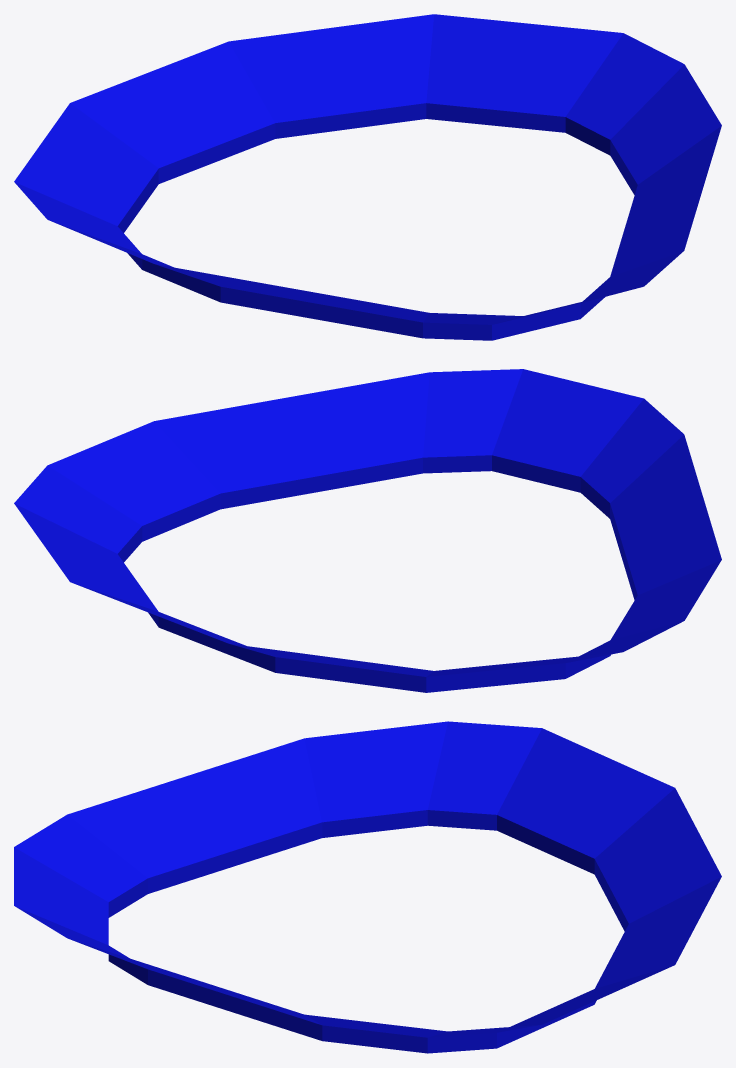
Rendered from baseball-stadium-wall.glb.
3 renders of one model, top to bottom at view 1: azimuth 30°, elevation 25°; view 2: azimuth 150°, elevation 25°; view 3: azimuth 270°, elevation 25°, orthographic.
Parts seen in each view (by area): view 1: Stadium_Wall; view 2: Stadium_Wall; view 3: Stadium_Wall.
Part boxes in pixels (left/top/right/bottom): Stadium_Wall: left=14, top=14, right=721, bottom=340; Stadium_Wall: left=14, top=369, right=721, bottom=692; Stadium_Wall: left=14, top=721, right=721, bottom=1053.
Bounding box in the file's own units: 30.98 × 2.95 × 29.9.
